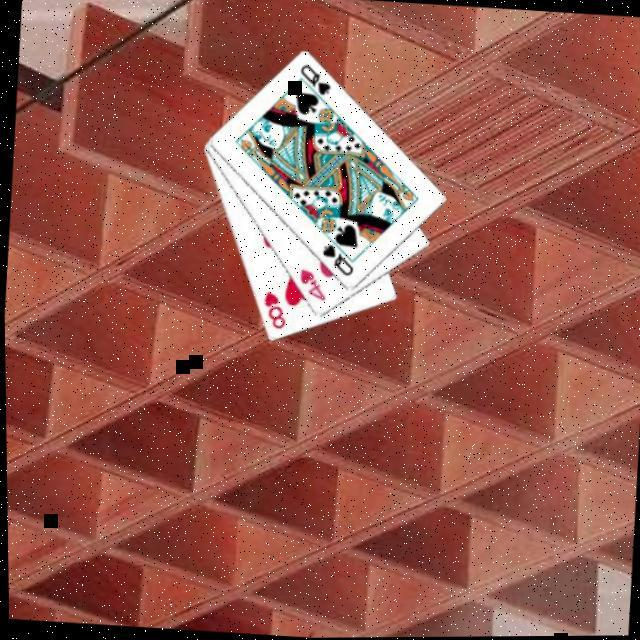4H: (292, 268, 327, 306)
8H: (256, 290, 288, 334)
QS: (315, 242, 355, 281), (293, 63, 333, 102)
